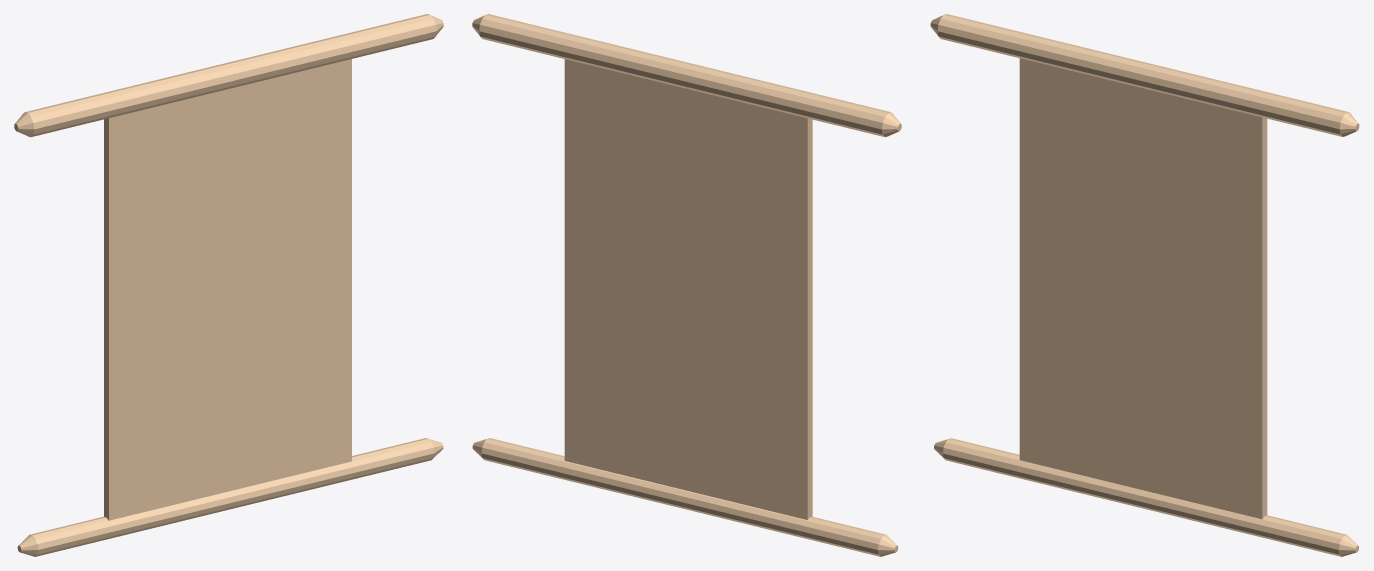
3 renders of one model, left to right at view 1: azimuth 30°, elevation 25°; view 2: azimuth 150°, elevation 25°; view 3: azimuth 330°, elevation 25°, orthographic.
Parts seen in each view (by area): view 1: scroll; view 2: scroll; view 3: scroll.
Part boxes in pixels (bbox=[...]): scroll: bbox=[14, 14, 443, 556]; scroll: bbox=[472, 14, 901, 556]; scroll: bbox=[930, 14, 1359, 556].
Size of the model in its own units: 0.5988 by 0.5975 by 0.0315.
